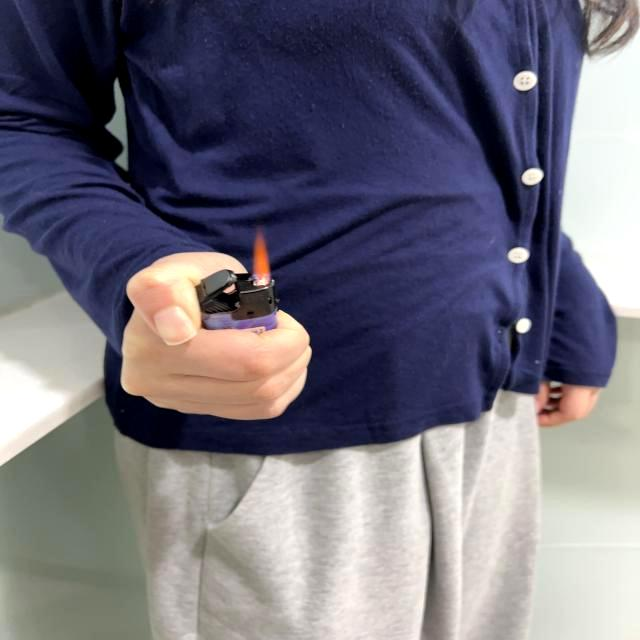fire: (252, 228, 272, 286)
